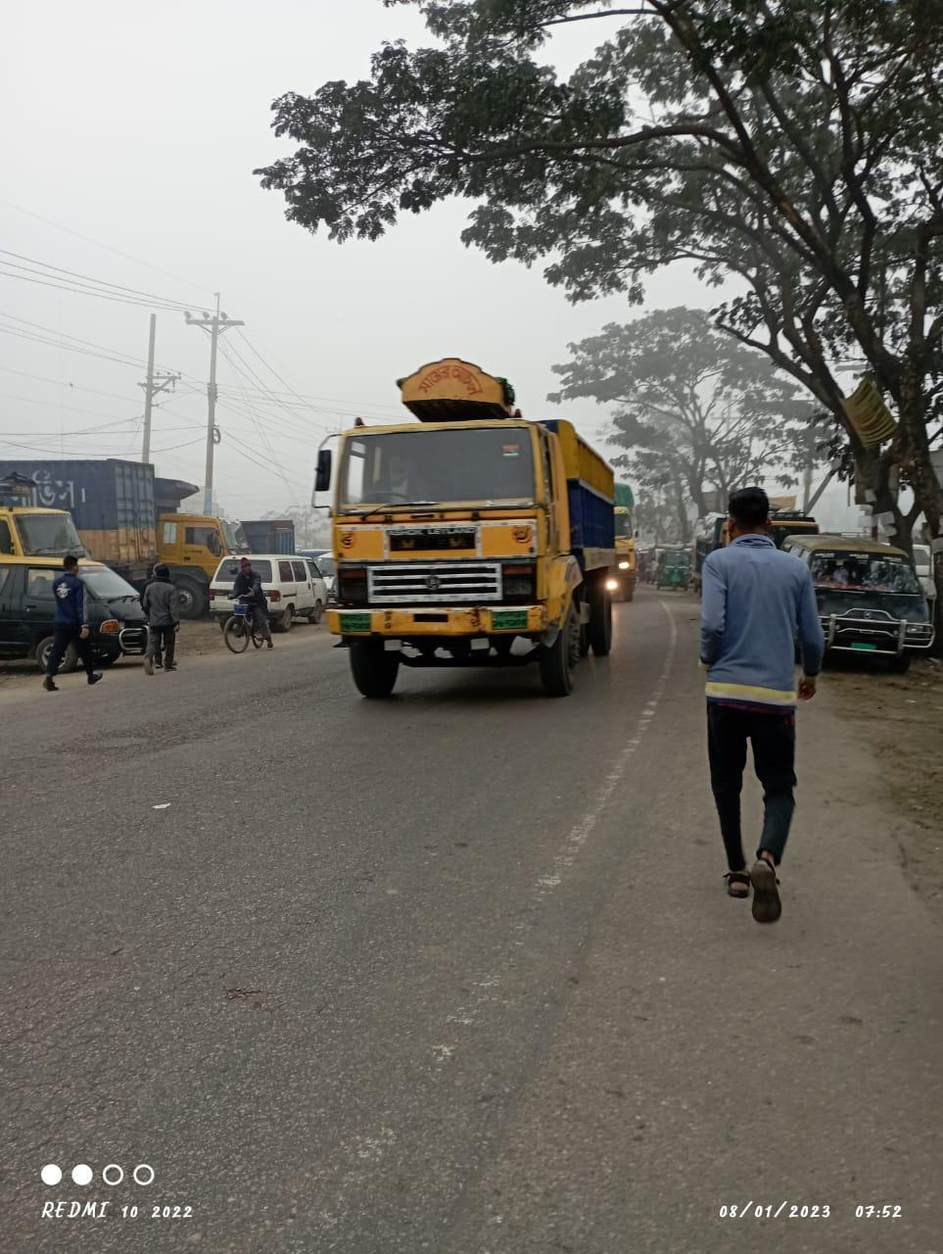Car: (776, 528, 942, 666), (2, 549, 157, 667), (193, 542, 335, 624)
Truck: (306, 357, 621, 721), (12, 447, 237, 593)
